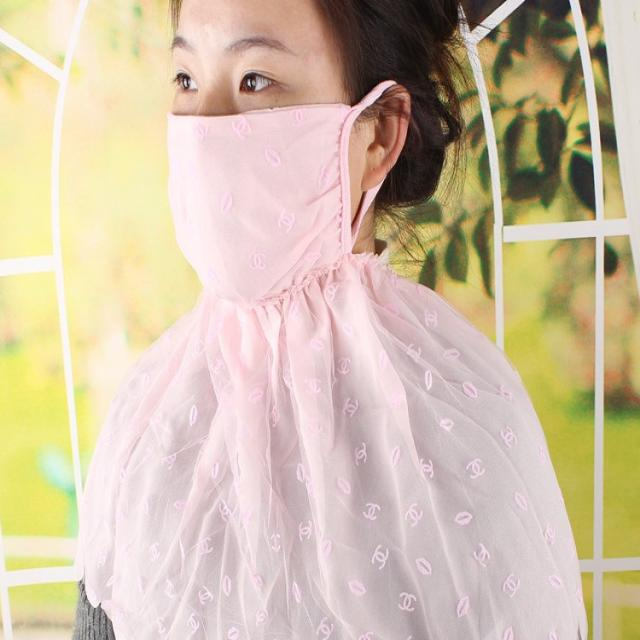mask: (172, 1, 355, 294)
